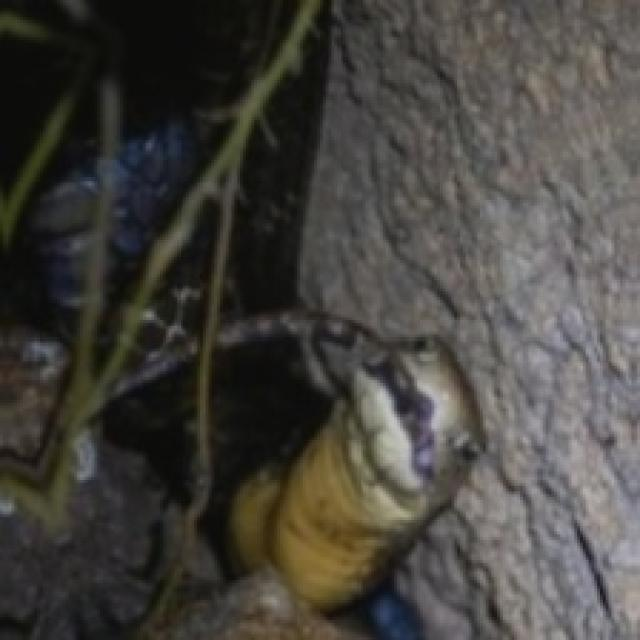king cobra: (0, 311, 480, 637), (109, 120, 194, 274)
